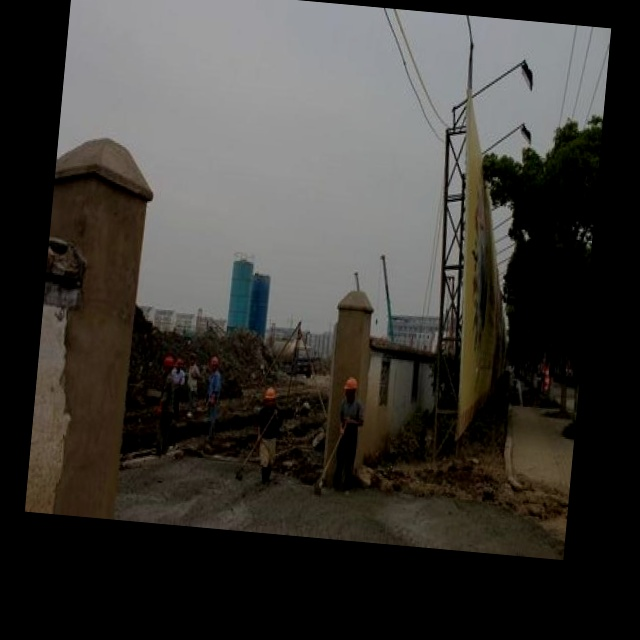Con_Casco: (342, 375, 359, 403), (264, 387, 278, 408)
